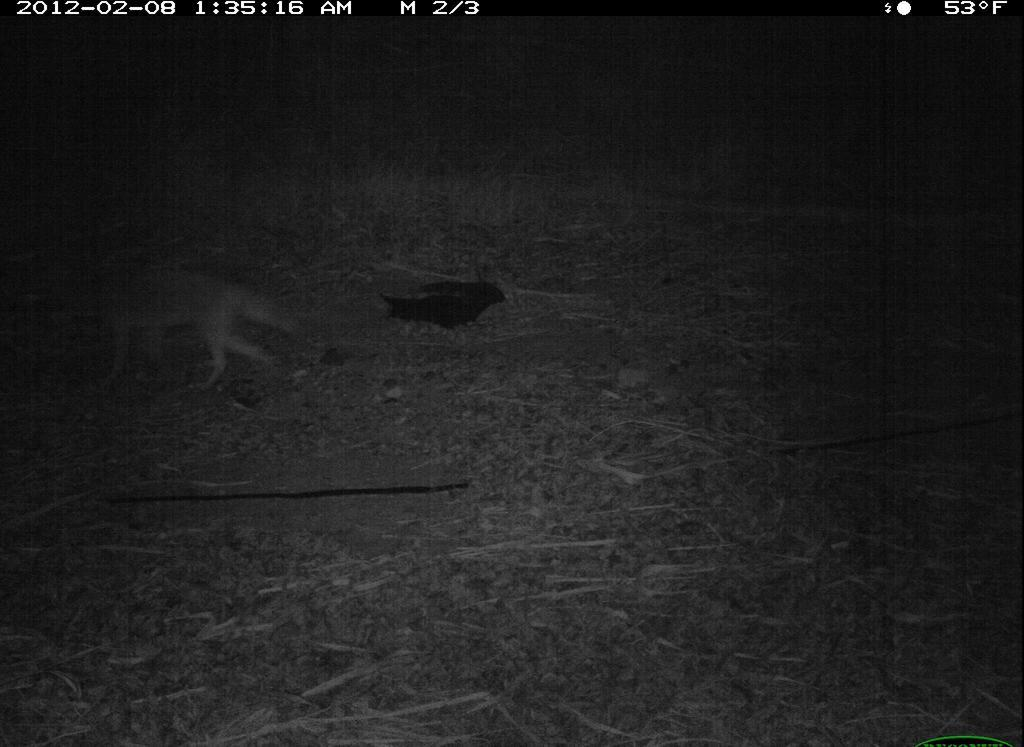coyote: (54, 244, 344, 406)
